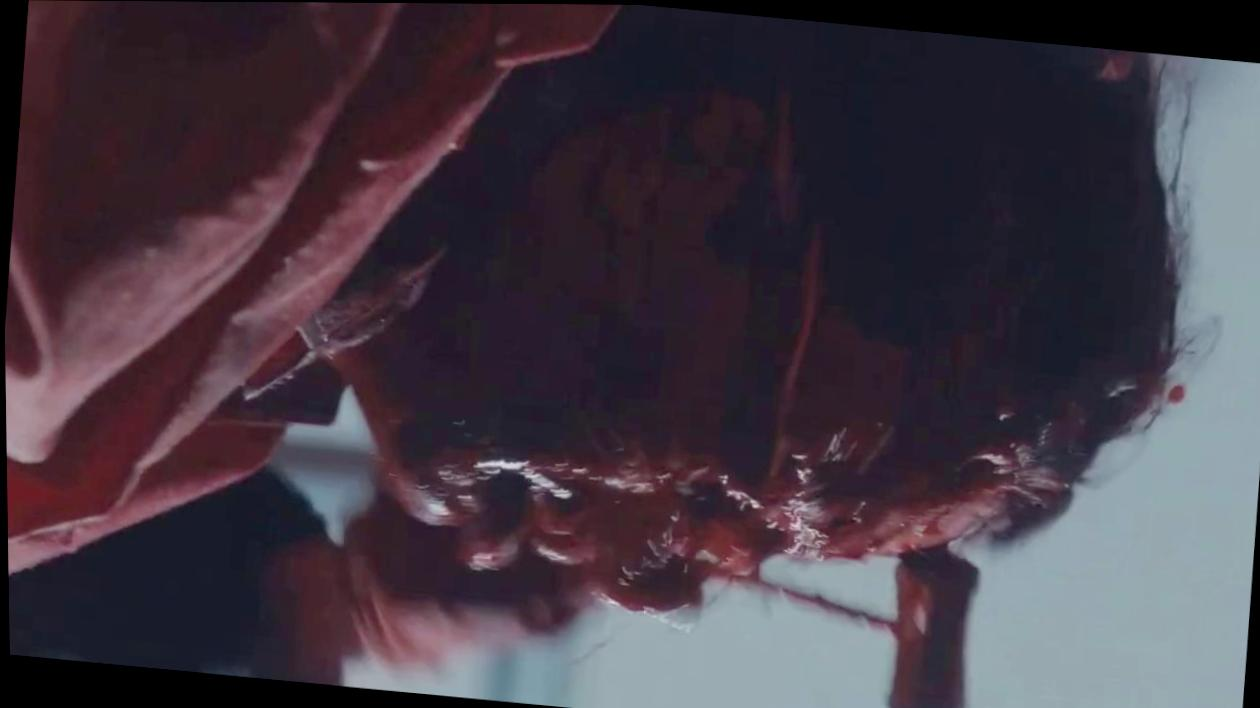Fire: (326, 4, 1179, 708)
